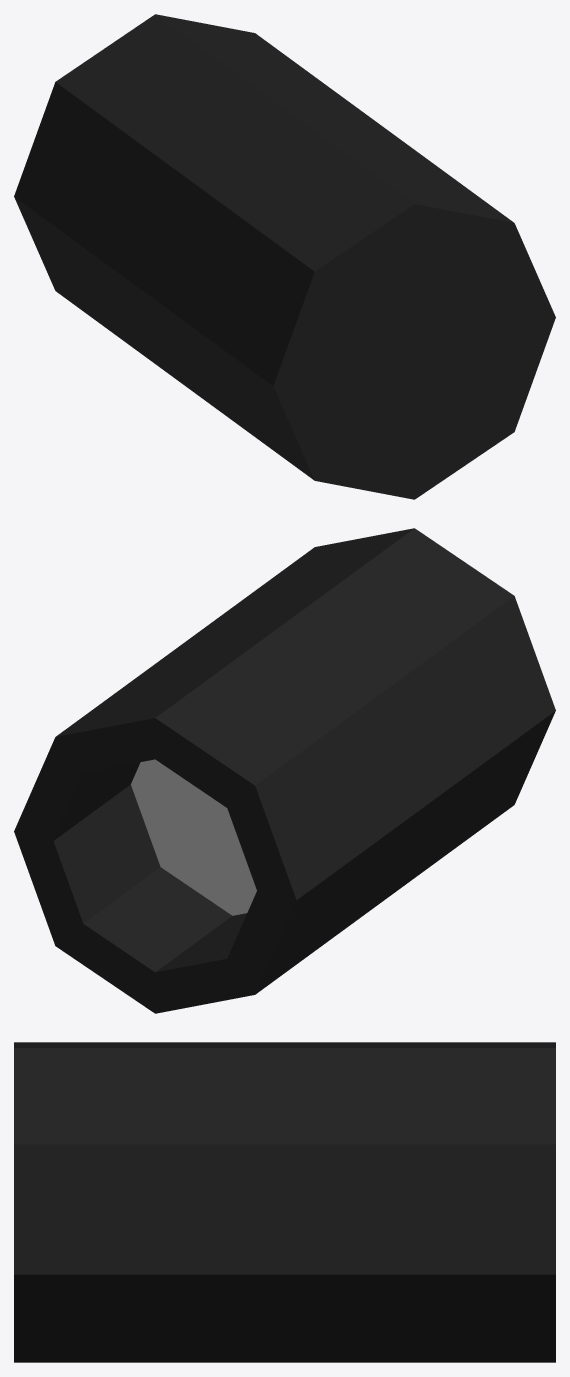
File: exhaust1.glb
3 renders of one model, top to bottom at view 1: azimuth 30°, elevation 25°; view 2: azimuth 150°, elevation 25°; view 3: azimuth 270°, elevation 25°, orthographic. The views are drawn at different scales.
Visible parts, largest first — view 1: exhaust1; view 2: exhaust1; view 3: exhaust1.
Part boxes in pixels (x1,y1,x2,y2): exhaust1: (14,14,555,499); exhaust1: (14,528,555,1013); exhaust1: (14,1042,555,1362).
Bounding box in the file's own units: 0.2176 × 0.2176 × 0.346.
Materials: 1 (1 with a texture image).
